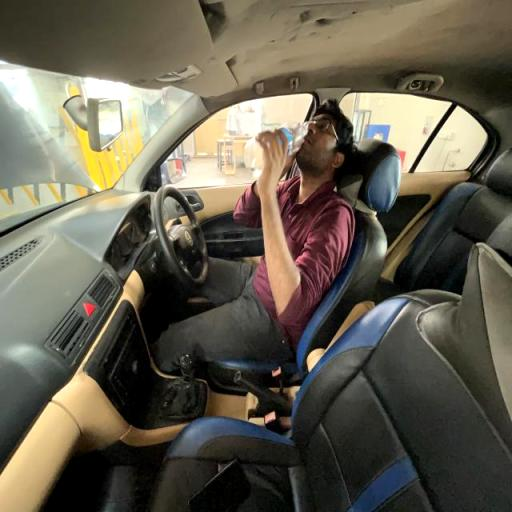Drinking: (207, 97, 360, 322)
